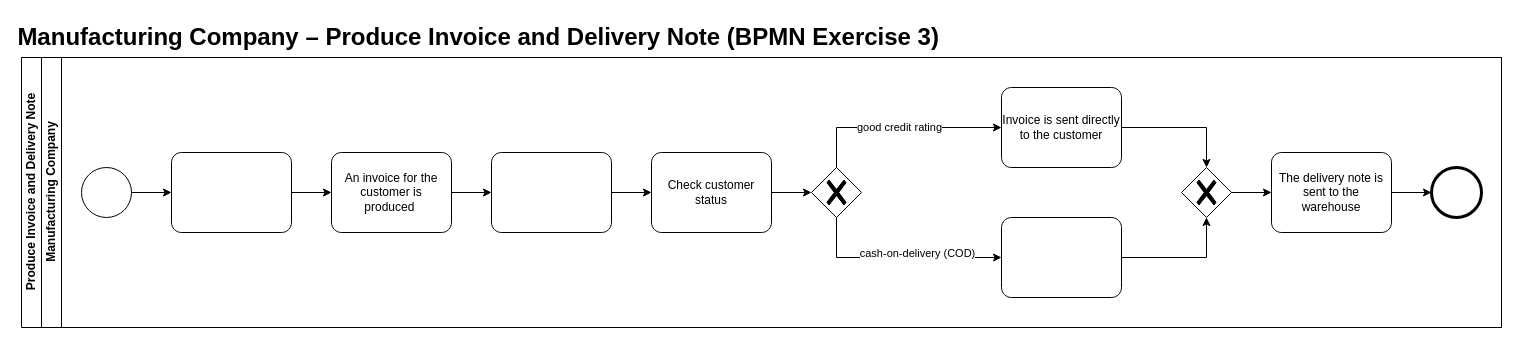
This 1519x345 diagram has some shape labels left out. The centre of each missing label's shape, as x and y in pixels:
"A delivery note is produced to accompany the product" goes at point 551,192.
"Completed work order is received and compared against the original order" goes at point 231,192.
"Invoice is forwarded to the warehouse for packing with the product" goes at point 1061,257.
